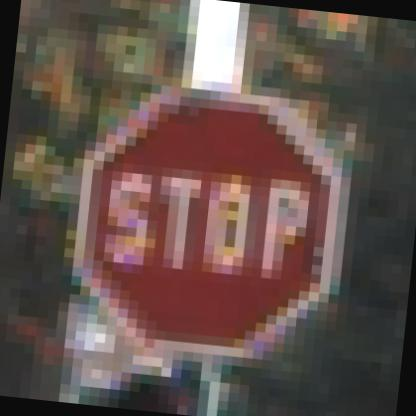stop: (62, 64, 360, 363)
